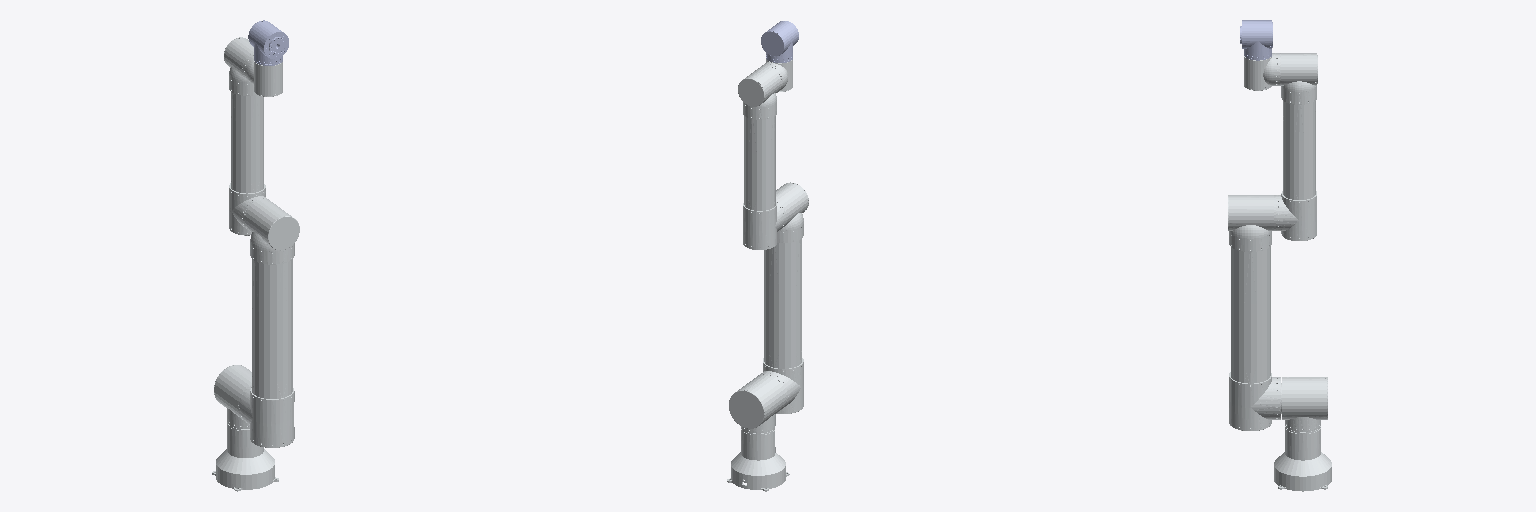
URDF robot description (arm):
<?xml version="1.0" encoding="utf-8"?>
<!-- This URDF was automatically created by SolidWorks to URDF Exporter! Originally created by Stephen Brawner (brawner@gmail.com) 
     Commit Version: 1.6.0-4-g7f85cfe  Build Version: 1.6.7995.38578
     For more information, please see http://wiki.ros.org/sw_urdf_exporter -->
<robot
  name="arm">
  <link
    name="base_link">
    <inertial>
      <origin
        xyz="-1.4824527317034E-16 -0.000217414035885836 0.0727671471110202"
        rpy="0 0 0" />
      <mass
        value="0.674186463651997" />
      <inertia
        ixx="0.00295010479446613"
        ixy="1.0218470805528E-18"
        ixz="5.9262051396862E-19"
        iyy="0.00296152086429525"
        iyz="-8.26266658254792E-06"
        izz="0.00273320000431985" />
    </inertial>
    <visual>
      <origin
        xyz="0 0 0"
        rpy="0 0 0" />
      <geometry>
        <mesh
          filename="package://arm_pkg/meshes/base_link.STL" />
      </geometry>
      <material
        name="">
        <color
          rgba="0.898039215686275 0.917647058823529 0.929411764705882 1" />
      </material>
    </visual>
    <collision>
      <origin
        xyz="0 0 0"
        rpy="0 0 0" />
      <geometry>
        <mesh
          filename="package://arm_pkg/meshes/base_link.STL" />
      </geometry>
    </collision>
  </link>
  <link
    name="J1">
    <inertial>
      <origin
        xyz="-1.77910606515968E-06 0.005897163049534 0.229998947042773"
        rpy="0 0 0" />
      <mass
        value="0.734504996688149" />
      <inertia
        ixx="0.00202120167773863"
        ixy="-4.89823514529087E-09"
        ixz="-2.11620457667784E-08"
        iyy="0.00221067656193865"
        iyz="2.47295086272012E-06"
        izz="0.00201535115354741" />
    </inertial>
    <visual>
      <origin
        xyz="0 0 0"
        rpy="0 0 0" />
      <geometry>
        <mesh
          filename="package://arm_pkg/meshes/J1.STL" />
      </geometry>
      <material
        name="">
        <color
          rgba="0.898039215686275 0.917647058823529 0.929411764705882 1" />
      </material>
    </visual>
    <collision>
      <origin
        xyz="0 0 0"
        rpy="0 0 0" />
      <geometry>
        <mesh
          filename="package://arm_pkg/meshes/J1.STL" />
      </geometry>
    </collision>
  </link>
  <joint
    name="J1"
    type="revolute">
    <origin
      xyz="0 0 0"
      rpy="0 0 0" />
    <parent
      link="base_link" />
    <child
      link="J1" />
    <axis
      xyz="0 0 -1" />
    <limit
      lower="-3.14"
      upper="3.14"
      effort="100"
      velocity="100" />
  </joint>
  <link
    name="J2">
    <inertial>
      <origin
        xyz="-2.99173788242083E-07 -0.205171878627219 0.214855220700126"
        rpy="0 0 0" />
      <mass
        value="2.44245996641046" />
      <inertia
        ixx="0.0339892696830772"
        ixy="-2.30786695036266E-08"
        ixz="-2.10894197861353E-08"
        iyy="0.0341736363657584"
        iyz="-6.91545213581086E-05"
        izz="0.00711410938396861" />
    </inertial>
    <visual>
      <origin
        xyz="0 0 0"
        rpy="0 0 0" />
      <geometry>
        <mesh
          filename="package://arm_pkg/meshes/J2.STL" />
      </geometry>
      <material
        name="">
        <color
          rgba="0.898039215686275 0.917647058823529 0.929411764705882 1" />
      </material>
    </visual>
    <collision>
      <origin
        xyz="0 0 0"
        rpy="0 0 0" />
      <geometry>
        <mesh
          filename="package://arm_pkg/meshes/J2.STL" />
      </geometry>
    </collision>
  </link>
  <joint
    name="J2"
    type="revolute">
    <origin
      xyz="0 0.0685 0.245"
      rpy="0 0 0" />
    <parent
      link="J1" />
    <child
      link="J2" />
    <axis
      xyz="0 1 0" />
    <limit
      lower="-3.14"
      upper="3.14"
      effort="100"
      velocity="100" />
  </joint>
  <link
    name="J3">
    <inertial>
      <origin
        xyz="5.01997038722379E-07 0.19122577496937 0.169185336934822"
        rpy="0 0 0" />
      <mass
        value="1.69005326803973" />
      <inertia
        ixx="0.0147262401310724"
        ixy="5.3620328182519E-09"
        ixz="3.23136895343807E-09"
        iyy="0.0148657999989143"
        iyz="2.93849261391728E-05"
        izz="0.00332046741402665" />
    </inertial>
    <visual>
      <origin
        xyz="0 0 0"
        rpy="0 0 0" />
      <geometry>
        <mesh
          filename="package://arm_pkg/meshes/J3.STL" />
      </geometry>
      <material
        name="">
        <color
          rgba="0.898039215686275 0.917647058823529 0.929411764705882 1" />
      </material>
    </visual>
    <collision>
      <origin
        xyz="0 0 0"
        rpy="0 0 0" />
      <geometry>
        <mesh
          filename="package://arm_pkg/meshes/J3.STL" />
      </geometry>
    </collision>
  </link>
  <joint
    name="J3"
    type="revolute">
    <origin
      xyz="0 -0.275 0.56"
      rpy="0 0 0" />
    <parent
      link="J2" />
    <child
      link="J3" />
    <axis
      xyz="0 1 0" />
    <limit
      lower="-3.14"
      upper="3.14"
      effort="100"
      velocity="100" />
  </joint>
  <link
    name="J4">
    <inertial>
      <origin
        xyz="-1.69035502337261E-06 -0.136386631236492 -0.00151245201699624"
        rpy="0 0 0" />
      <mass
        value="0.216727590595791" />
      <inertia
        ixx="0.000251646331581201"
        ixy="1.28295094962965E-09"
        ixz="3.88912040043473E-10"
        iyy="0.000305284443944767"
        iyz="2.23517087012216E-06"
        izz="0.000264255882987725" />
    </inertial>
    <visual>
      <origin
        xyz="0 0 0"
        rpy="0 0 0" />
      <geometry>
        <mesh
          filename="package://arm_pkg/meshes/J4.STL" />
      </geometry>
      <material
        name="">
        <color
          rgba="0.898039215686275 0.917647058823529 0.929411764705882 1" />
      </material>
    </visual>
    <collision>
      <origin
        xyz="0 0 0"
        rpy="0 0 0" />
      <geometry>
        <mesh
          filename="package://arm_pkg/meshes/J4.STL" />
      </geometry>
    </collision>
  </link>
  <joint
    name="J4"
    type="revolute">
    <origin
      xyz="0 0.24825 0.435"
      rpy="0 0 0" />
    <parent
      link="J3" />
    <child
      link="J4" />
    <axis
      xyz="0 -1 0" />
    <limit
      lower="-3.14"
      upper="3.14"
      effort="100"
      velocity="100" />
  </joint>
  <link
    name="J5">
    <inertial>
      <origin
        xyz="1.44682275804881E-08 0.000813612018311136 0.137741340148651"
        rpy="0 0 0" />
      <mass
        value="0.132921242726739" />
      <inertia
        ixx="0.000160532853395347"
        ixy="-2.70545603205785E-10"
        ixz="1.53015366633257E-11"
        iyy="0.000176814275516648"
        iyz="2.08079522567419E-06"
        izz="0.00016684026786328" />
    </inertial>
    <visual>
      <origin
        xyz="0 0 0"
        rpy="0 0 0" />
      <geometry>
        <mesh
          filename="package://arm_pkg/meshes/J5.STL" />
      </geometry>
      <material
        name="">
        <color
          rgba="0.792156862745098 0.819607843137255 0.933333333333333 1" />
      </material>
    </visual>
    <collision>
      <origin
        xyz="0 0 0"
        rpy="0 0 0" />
      <geometry>
        <mesh
          filename="package://arm_pkg/meshes/J5.STL" />
      </geometry>
    </collision>
  </link>
  <joint
    name="J5"
    type="revolute">
    <origin
      xyz="0 -0.16525 -0.04675"
      rpy="0 0 0" />
    <parent
      link="J4" />
    <child
      link="J5" />
    <axis
      xyz="0 0 -1" />
    <limit
      lower="-3.14"
      upper="3.14"
      effort="100"
      velocity="100" />
  </joint>
  <link
    name="J6">
    <inertial>
      <origin
        xyz="-0.00524020386403277 0.106816752865177 -0.789890482662708"
        rpy="0 0 0" />
      <mass
        value="10.4077788545173" />
      <inertia
        ixx="1.51680568443909"
        ixy="0.0039205487008158"
        ixz="-0.0245131180589155"
        iyy="1.47569348728239"
        iyz="0.041066706980443"
        izz="0.0643844943069449" />
    </inertial>
    <visual>
      <origin
        xyz="0 0 0"
        rpy="0 0 0" />
      <geometry>
        <mesh
          filename="package://arm_pkg/meshes/J6.STL" />
      </geometry>
      <material
        name="">
        <color
          rgba="0.792156862745098 0.819607843137255 0.933333333333333 1" />
      </material>
    </visual>
    <collision>
      <origin
        xyz="0 0 0"
        rpy="0 0 0" />
      <geometry>
        <mesh
          filename="package://arm_pkg/meshes/J6.STL" />
      </geometry>
    </collision>
  </link>
  <joint
    name="J6"
    type="revolute">
    <origin
      xyz="0 -0.0491 0.15175"
      rpy="0 0 0" />
    <parent
      link="J5" />
    <child
      link="J6" />
    <axis
      xyz="0 1 0" />
    <limit
      lower="-3.14"
      upper="3.14"
      effort="100"
      velocity="100" />
  </joint>
</robot>

--- Render facts (derived) ---
3 views of the same robot in one strip: view 1: azimuth 30°, elevation 25°; view 2: azimuth 150°, elevation 25°; view 3: azimuth 270°, elevation 25° (orthographic).
Robot: arm — 7 links, 6 joints (6 revolute); root link base_link; default pose: all joints at 0.
Visible links, largest first — view 1: J2, J3, base_link, J1, J4, J5; view 2: J2, J3, base_link, J1, J5; view 3: J2, J3, base_link, J1, J5, J4.
Link boxes in pixels (left/top/right/bottom): J2: left=238, top=199, right=299, bottom=447; J3: left=224, top=37, right=268, bottom=235; base_link: left=212, top=425, right=278, bottom=491; J1: left=214, top=365, right=251, bottom=430; J4: left=242, top=53, right=282, bottom=96; J5: left=248, top=20, right=288, bottom=65; J2: left=758, top=182, right=808, bottom=413; J3: left=738, top=66, right=786, bottom=249; base_link: left=727, top=429, right=789, bottom=491; J1: left=729, top=374, right=785, bottom=434; J5: left=761, top=21, right=798, bottom=62; J2: left=1228, top=195, right=1281, bottom=430; J3: left=1274, top=53, right=1317, bottom=240; base_link: left=1274, top=428, right=1331, bottom=491; J1: left=1282, top=377, right=1327, bottom=433; J5: left=1242, top=20, right=1272, bottom=60; J4: left=1244, top=53, right=1280, bottom=90.
Bounding box of the posed robot: 0.16 × 0.2865 × 1.38 m (x, y, z).
7 mesh visuals loaded from 7 distinct referenced files (7 binary STL).
